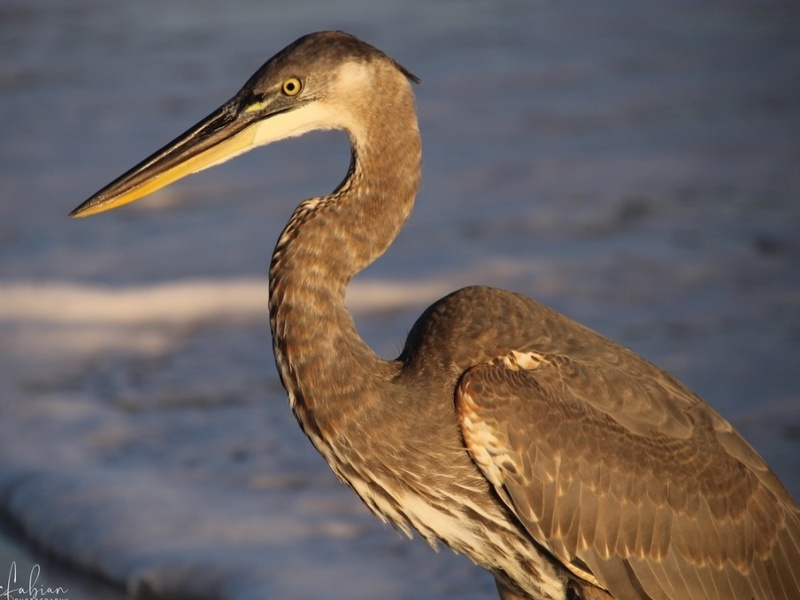heron: (69, 29, 796, 592)
